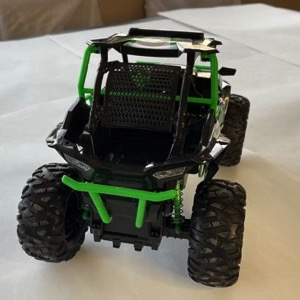polaris: (15, 26, 252, 290)
